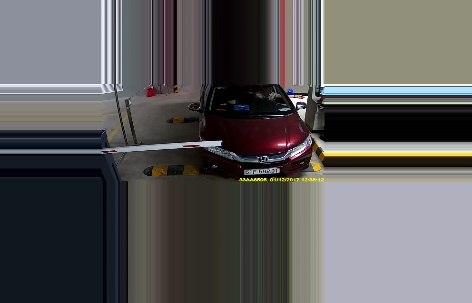plate: (242, 163, 279, 175)
